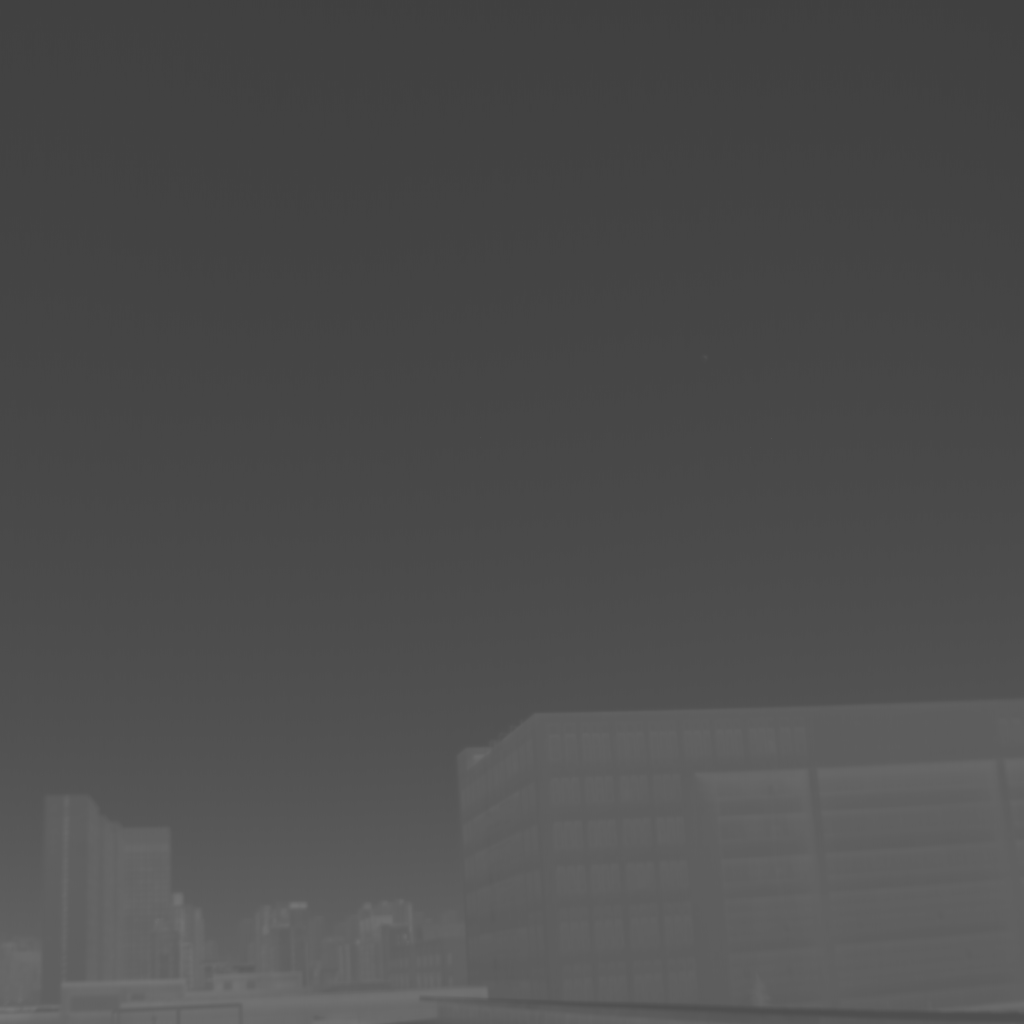Target: (701, 355, 710, 365)
